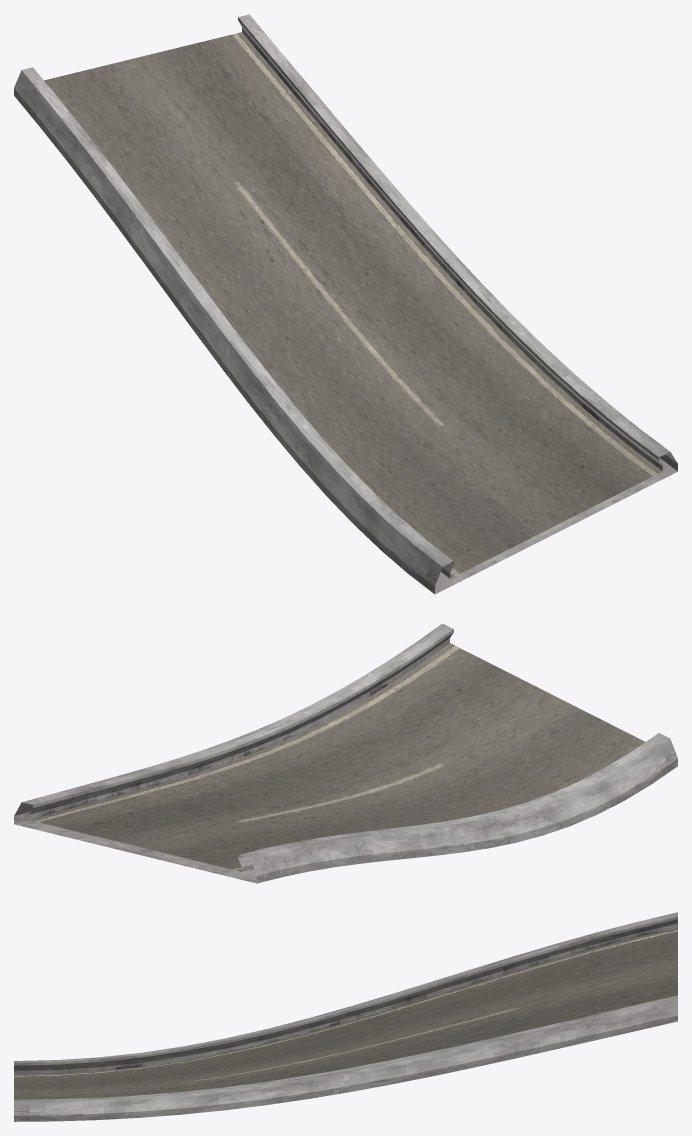
The model's file is straight3.glb.
3 renders of one model, top to bottom at view 1: azimuth 30°, elevation 25°; view 2: azimuth 150°, elevation 25°; view 3: azimuth 270°, elevation 25°, orthographic. The views are drawn at different scales.
Visible parts, largest first — view 1: road-Straight-HalfBankedLeft-BiSlopeUp-Up3-Center-Size3; view 2: road-Straight-HalfBankedLeft-BiSlopeUp-Up3-Center-Size3; view 3: road-Straight-HalfBankedLeft-BiSlopeUp-Up3-Center-Size3.
Part boxes in pixels (box(x1,y1,x2,y2)): road-Straight-HalfBankedLeft-BiSlopeUp-Up3-Center-Size3: box(14, 14, 677, 594); road-Straight-HalfBankedLeft-BiSlopeUp-Up3-Center-Size3: box(14, 623, 677, 883); road-Straight-HalfBankedLeft-BiSlopeUp-Up3-Center-Size3: box(14, 912, 677, 1121).
Size of the model in its own units: 1 by 0.8437 by 3.
2 materials, 2 textured.
